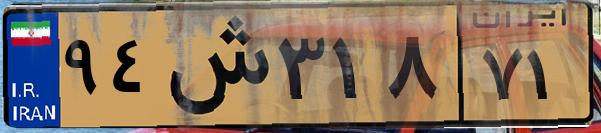1: (330, 28, 385, 110), (525, 38, 570, 115)
3: (270, 28, 330, 110)
4: (110, 28, 158, 98)
7: (475, 38, 525, 113)
8: (385, 28, 445, 110)
9: (57, 26, 110, 100)
ش: (158, 12, 270, 120)
